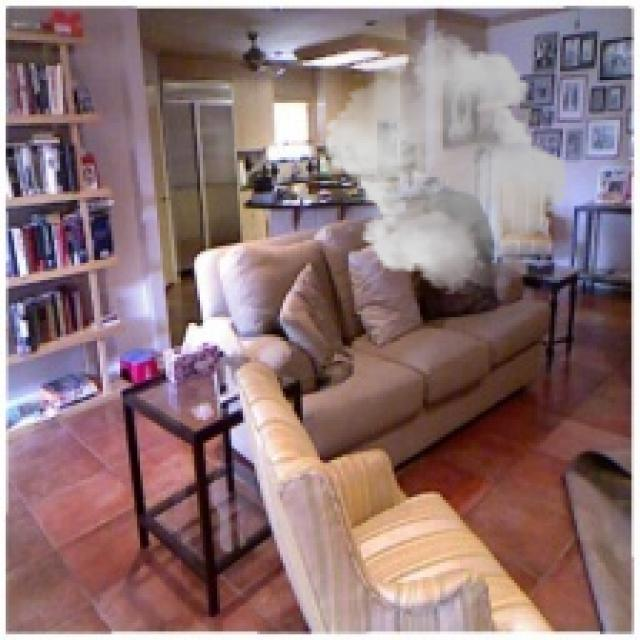smoke: (314, 29, 577, 294)
